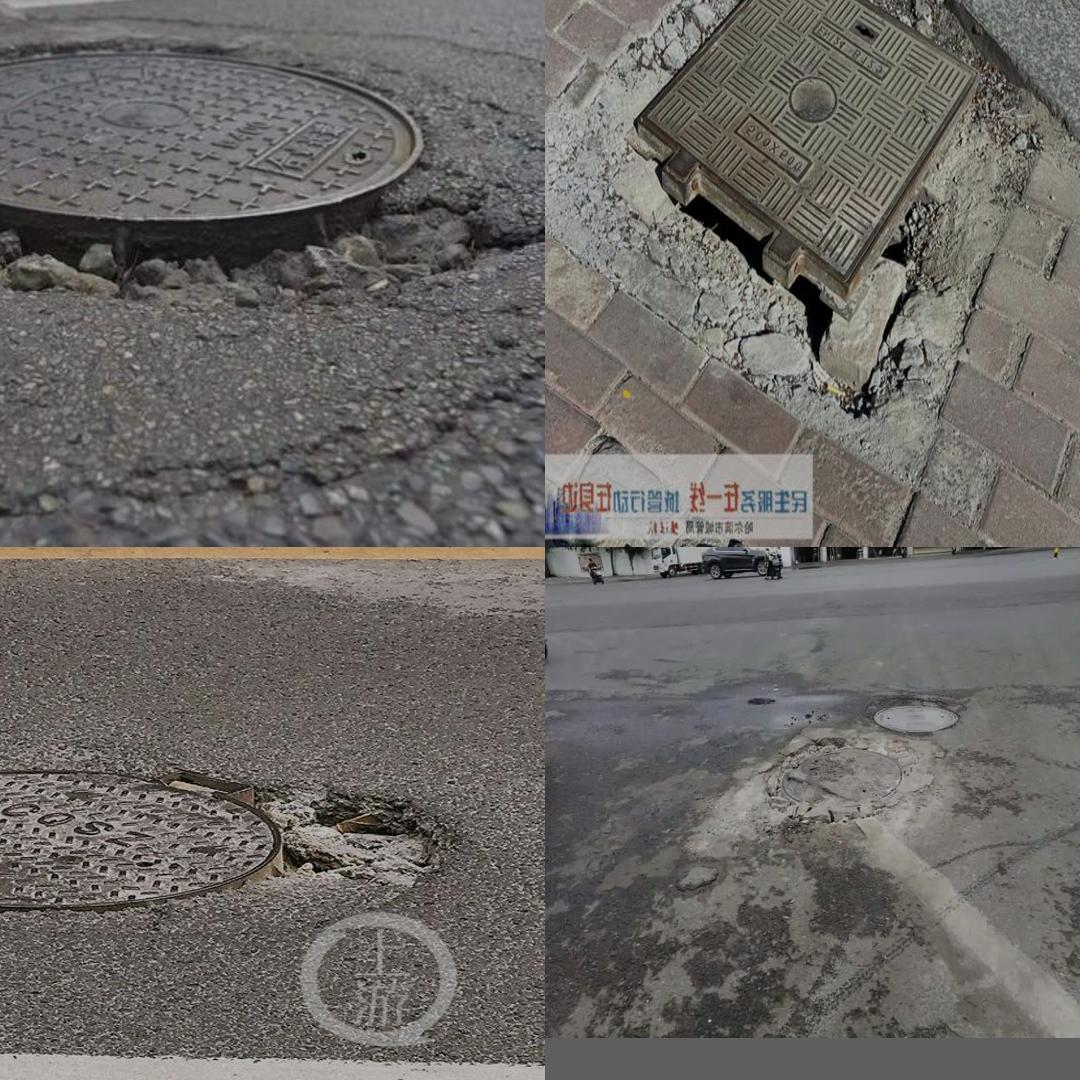circle: (550, 0, 1038, 430), (0, 30, 530, 339), (0, 761, 476, 929), (721, 728, 929, 866)
